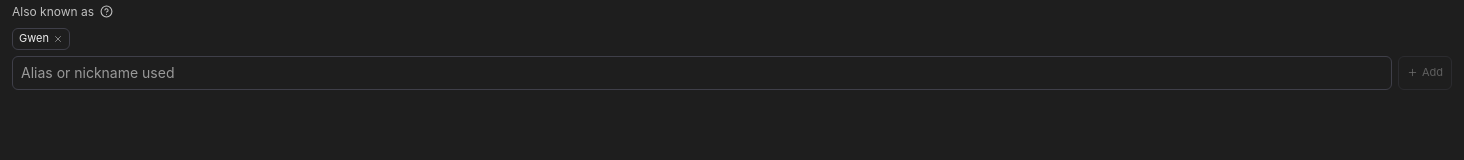
Test: one word cannot mean two things › treats a word this entry already has as done, not as a failure
The image size is (1464, 160).
Type "gwen" into the field named "Add another name" at (702, 73), box left=12, top=56, right=1392, bottom=90
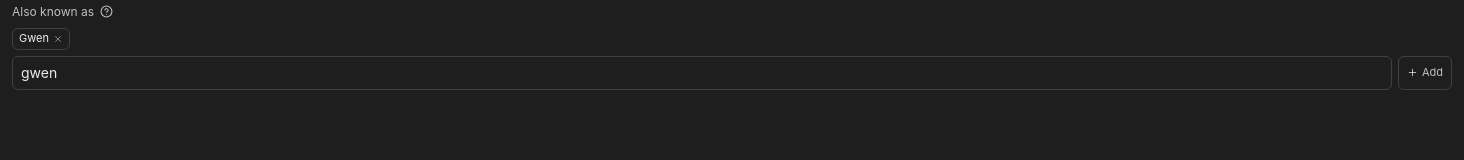
Click the button with test id "alias-add" at (1425, 73), box left=1398, top=56, right=1452, bottom=90
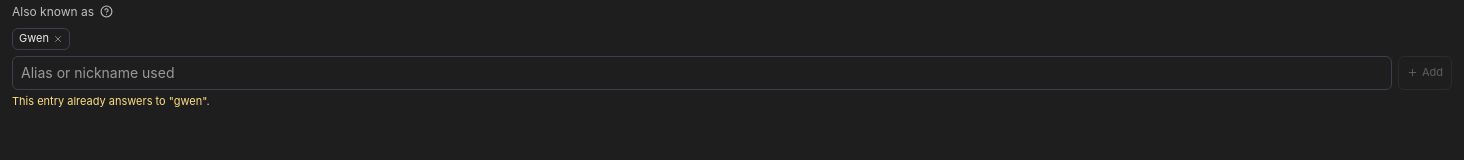
Now the message with test id "alias-error" shows "already answers to", box left=12, top=94, right=210, bottom=108
